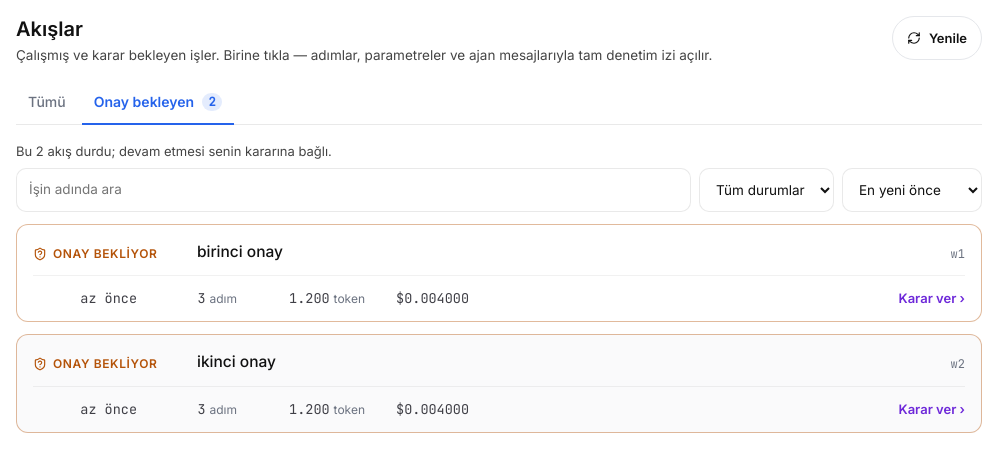
Test: a_filter_does_not_change_what_the_tab_says_is_waiting
Expected: the text "birinci onay" is shown, [197, 242, 283, 261]
Type "ikinci" into the search field with placeholder "İşin adında ara" at (354, 190), box [16, 168, 691, 212]
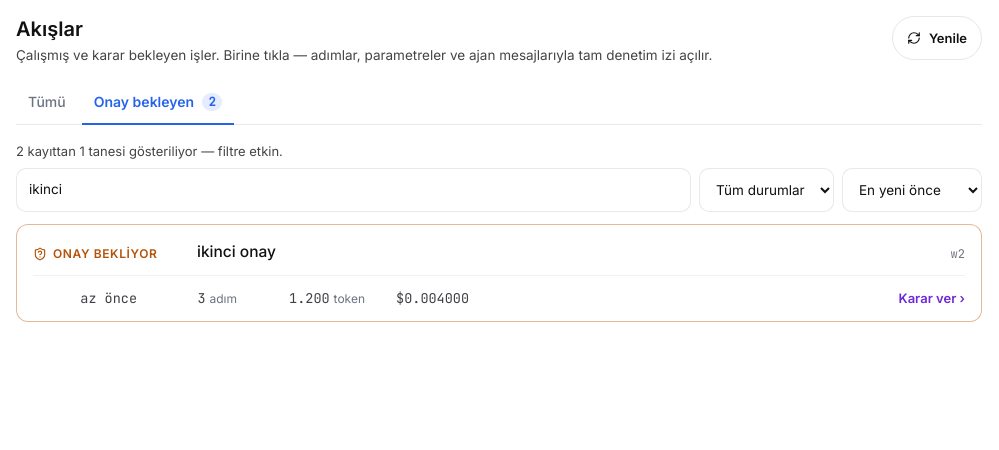
Expected: the text "2" is shown, [202, 93, 222, 111]
Result: the number of list items is 1 at [16, 224, 982, 322]
